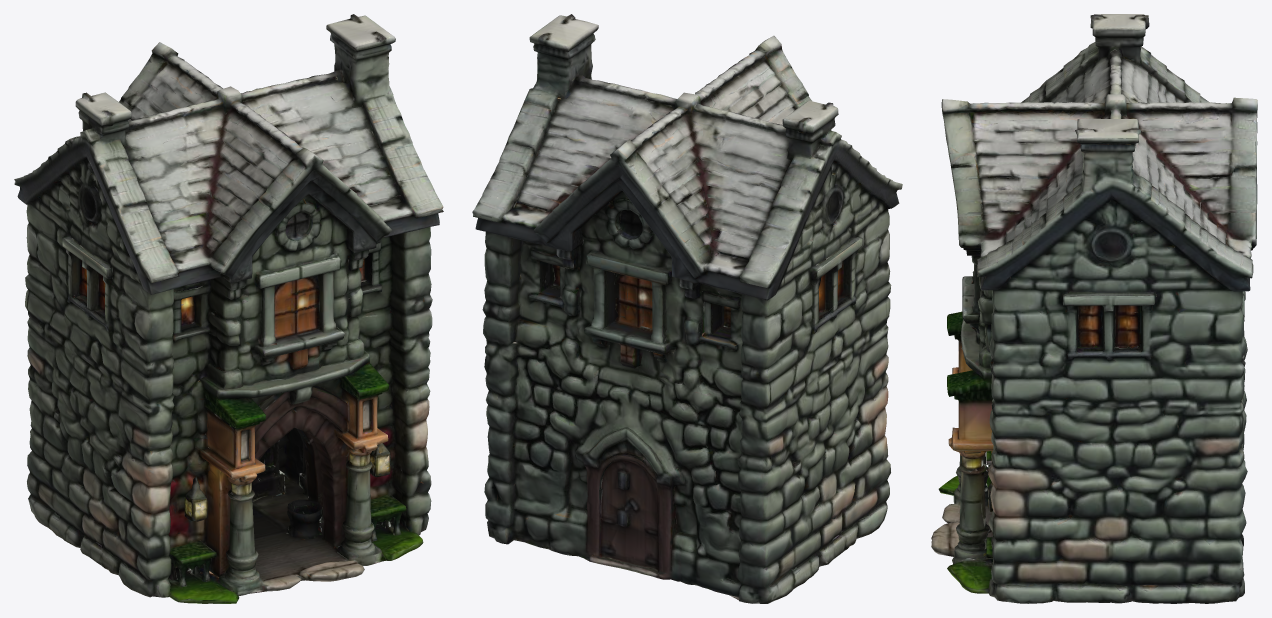
File: Dwarven Building #13_final.glb
3 renders of one model, left to right at view 1: azimuth 30°, elevation 25°; view 2: azimuth 150°, elevation 25°; view 3: azimuth 270°, elevation 25°, orthographic.
Size of the model in its own units: 1.28 by 1.91 by 1.2.
Materials: 1 (1 with a texture image).
